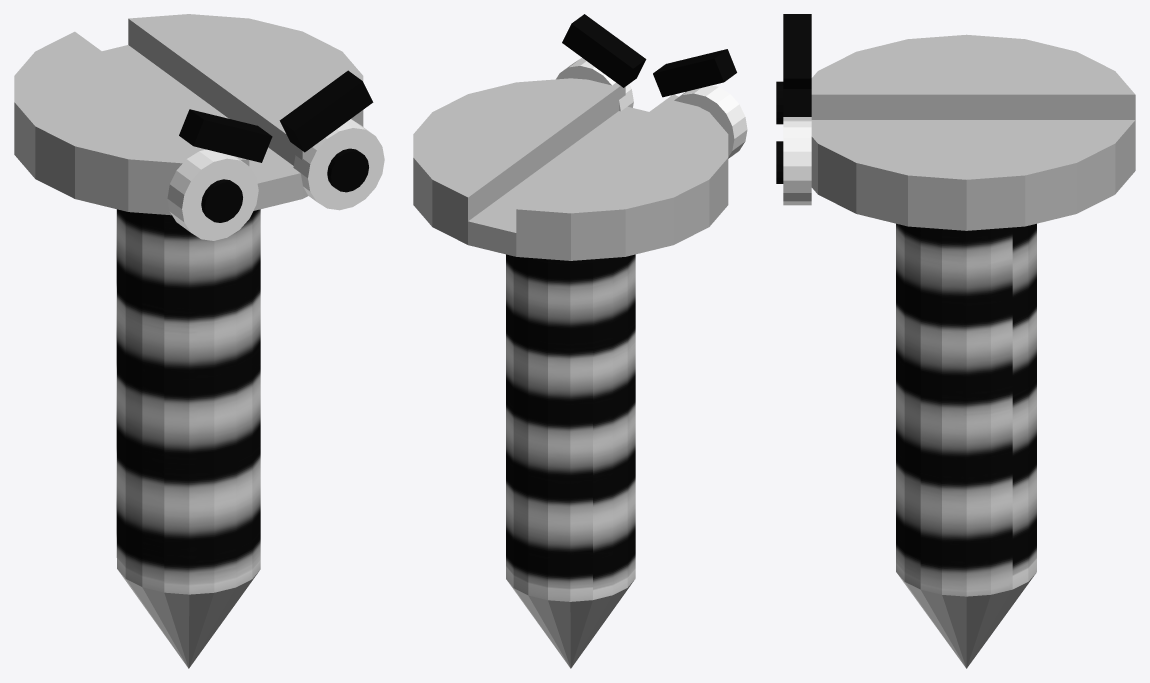
The model's file is screwWA.fbx.
The picture shows the model from 3 angles, left to right: view 1: azimuth 30°, elevation 25°; view 2: azimuth 150°, elevation 25°; view 3: azimuth 270°, elevation 25°; orthographic projection. The views are drawn at different scales.
Visible parts, largest first — view 1: nail body, cuboid_1, cuboid, nail head, pupil, nail tip, pupil_1, eyebrow, eyebrow_1, iris_1, iris; view 2: nail body, cuboid_1, cuboid, nail head, nail tip, eyebrow, eyebrow_1, pupil, pupil_1; view 3: nail body, cuboid, cuboid_1, nail head, nail tip, pupil_1, eyebrow_1, eyebrow.
Boxes of the visible parts, box(x1,y1,x2,y2) form: nail body: box(116, 209, 260, 594); cuboid_1: box(14, 31, 249, 188); cuboid: box(128, 14, 363, 165); nail head: box(14, 45, 307, 215); pupil: box(167, 149, 258, 240); nail tip: box(118, 570, 258, 668); pupil_1: box(293, 119, 384, 210); eyebrow: box(279, 70, 373, 152); eyebrow_1: box(179, 109, 272, 162); iris_1: box(327, 148, 368, 192); iris: box(201, 179, 242, 222); nail body: box(506, 254, 635, 601); cuboid_1: box(516, 94, 728, 237); cuboid: box(413, 78, 625, 220); nail head: box(413, 106, 728, 260); nail tip: box(507, 580, 633, 668); eyebrow: box(562, 14, 646, 87); eyebrow_1: box(653, 49, 736, 97); pupil: box(674, 85, 747, 158); pupil_1: box(556, 58, 633, 111); nail body: box(896, 223, 1036, 596); cuboid: box(811, 120, 1135, 205); cuboid_1: box(811, 34, 1135, 119); nail head: box(811, 146, 1135, 230); nail tip: box(898, 573, 1035, 668); pupil_1: box(783, 120, 811, 205); eyebrow_1: box(783, 14, 811, 88); eyebrow: box(783, 89, 811, 116).
Bounding box in the file's own units: 76.16 × 151 × 79.69.
Materials: 5 (5 with a texture image).
